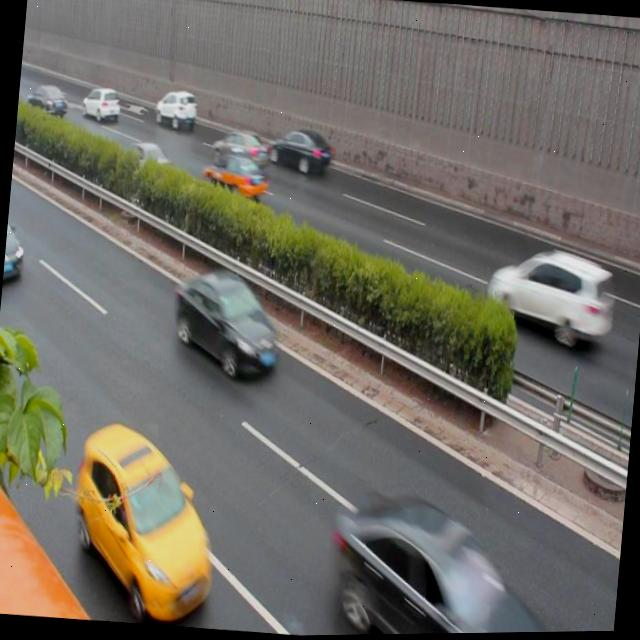car: (327, 487, 556, 636), (66, 420, 226, 614), (484, 243, 614, 349), (170, 270, 287, 385), (200, 150, 268, 208), (268, 126, 336, 183), (209, 126, 269, 173), (124, 137, 172, 185), (2, 210, 29, 292), (152, 87, 200, 132), (27, 79, 71, 125), (80, 80, 120, 124)
